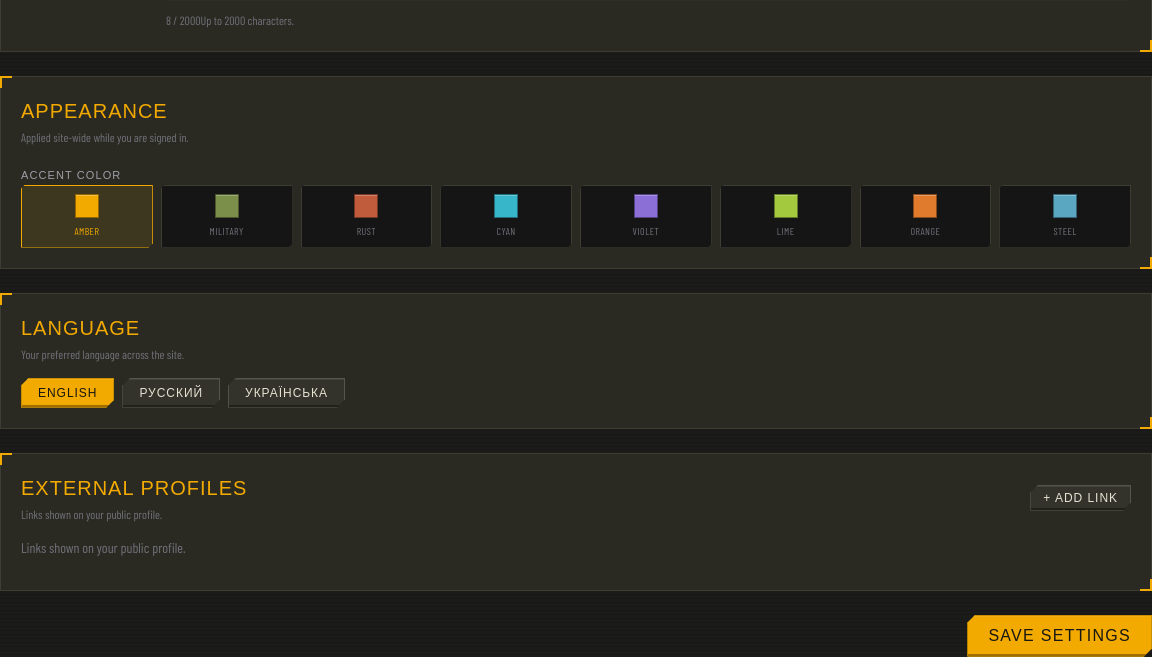
Test: SettingsForm › shows the success banner and refreshes the router
The image size is (1152, 657).
(page scrolled)
Step 1. Click the button "Save settings" → coordinates (1060, 636), box [967, 614, 1151, 656]
(page scrolled)
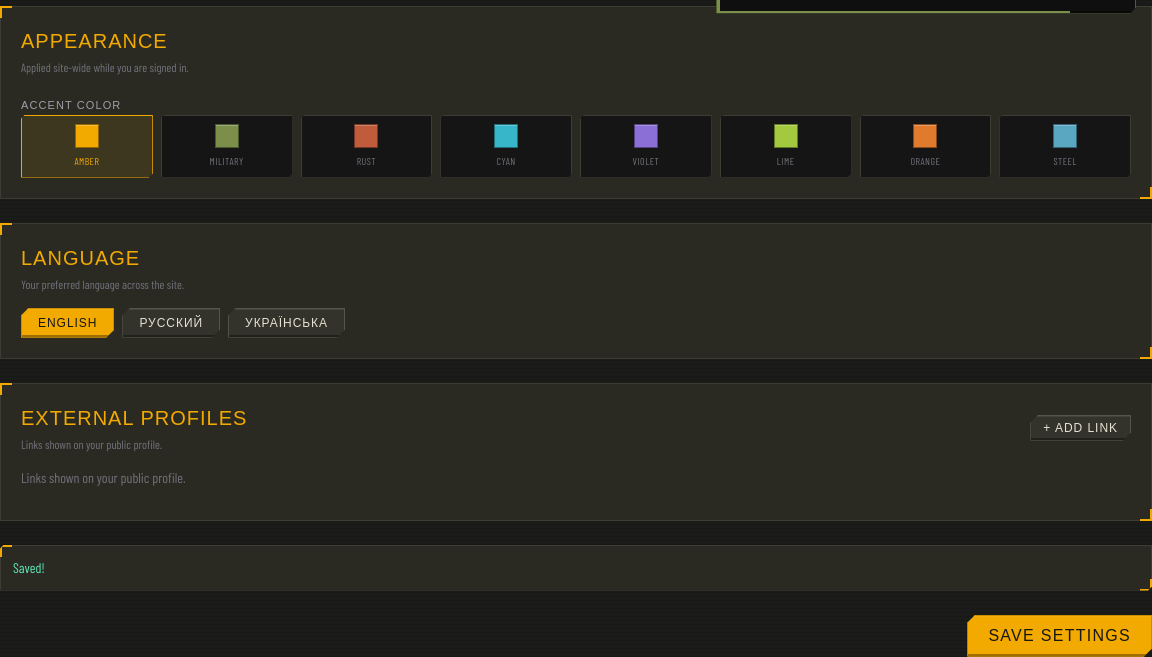
Check: the text "Saved!" is shown, box [0, 544, 1151, 590]
